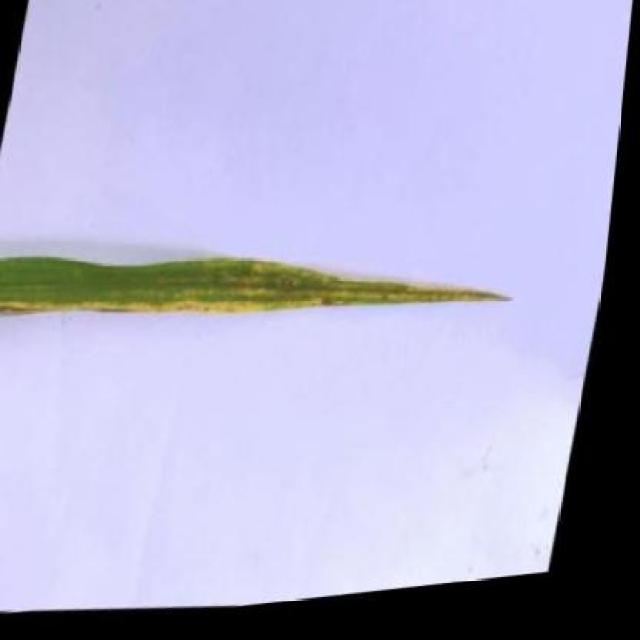Rice False Smut: (0, 205, 531, 366)
